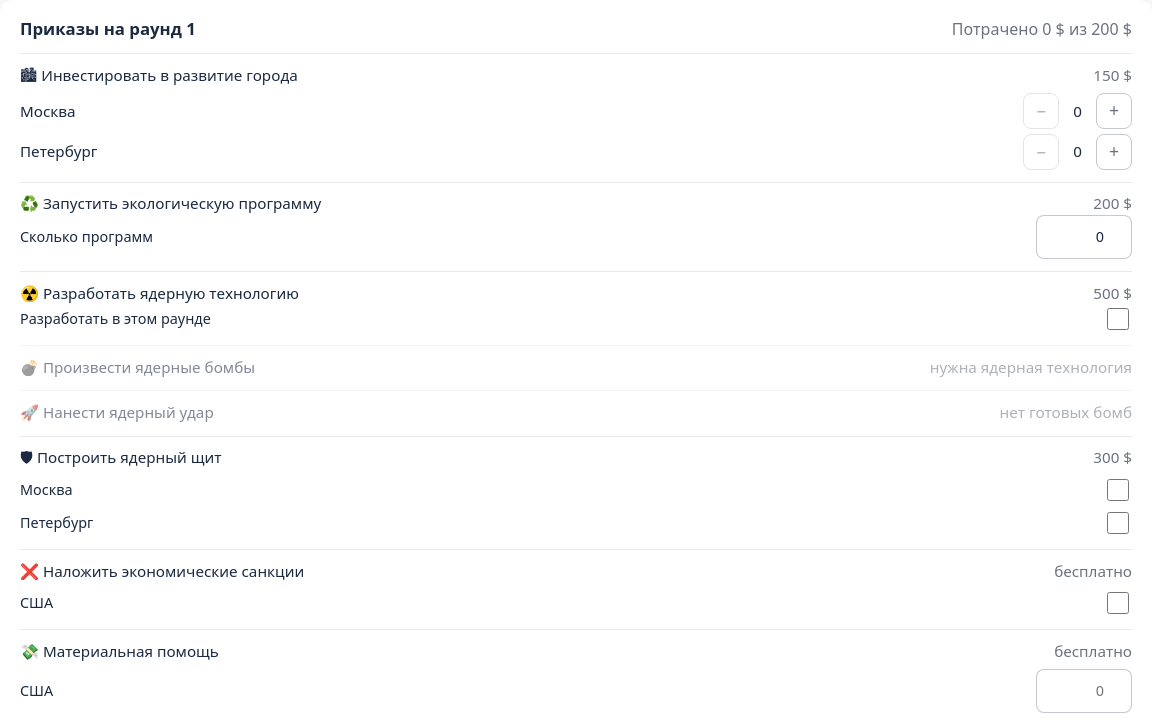
Test case: OrdersForm › blocks submission over budget and says by how much
Step 1. Click the button named "Добавить Москва" → (1114, 111), box left=1096, top=93, right=1132, bottom=129
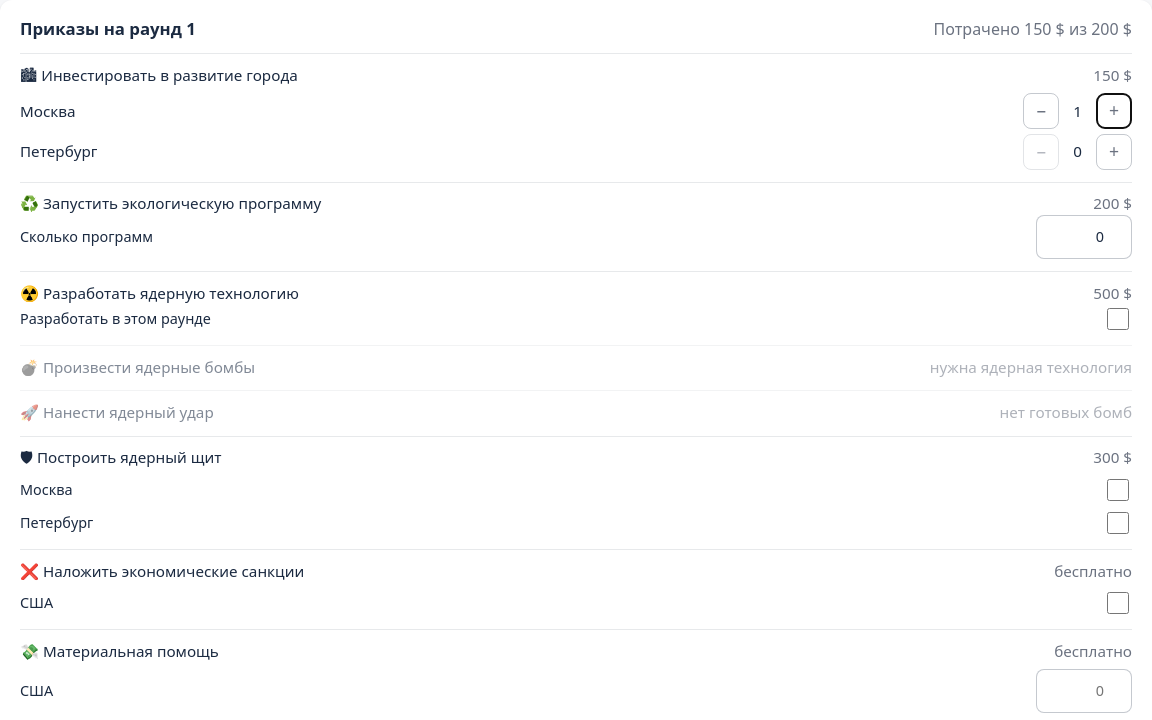
Step 2. Click the button named "Добавить Петербург" → (1114, 152), box left=1096, top=134, right=1132, bottom=170
(page scrolled)
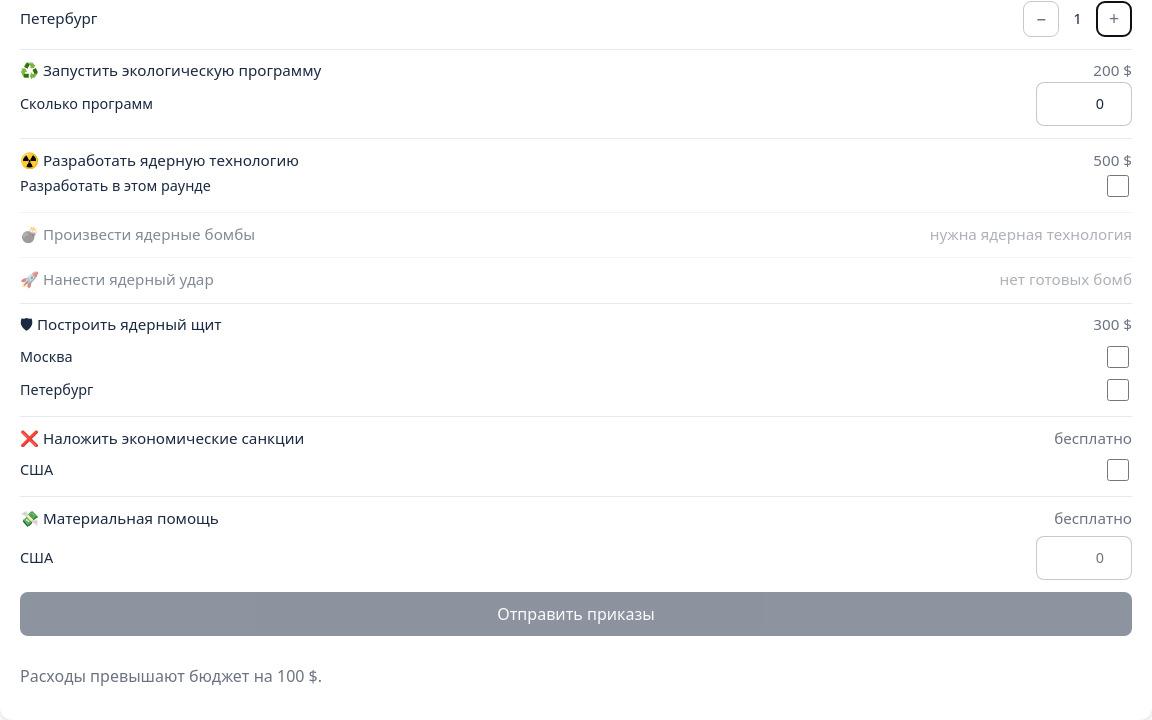
Now the text "Расходы превышают бюджет на 100 $." is shown, box left=20, top=665, right=322, bottom=687
Now the button "Отправить приказы" is disabled, box left=20, top=592, right=1132, bottom=636
